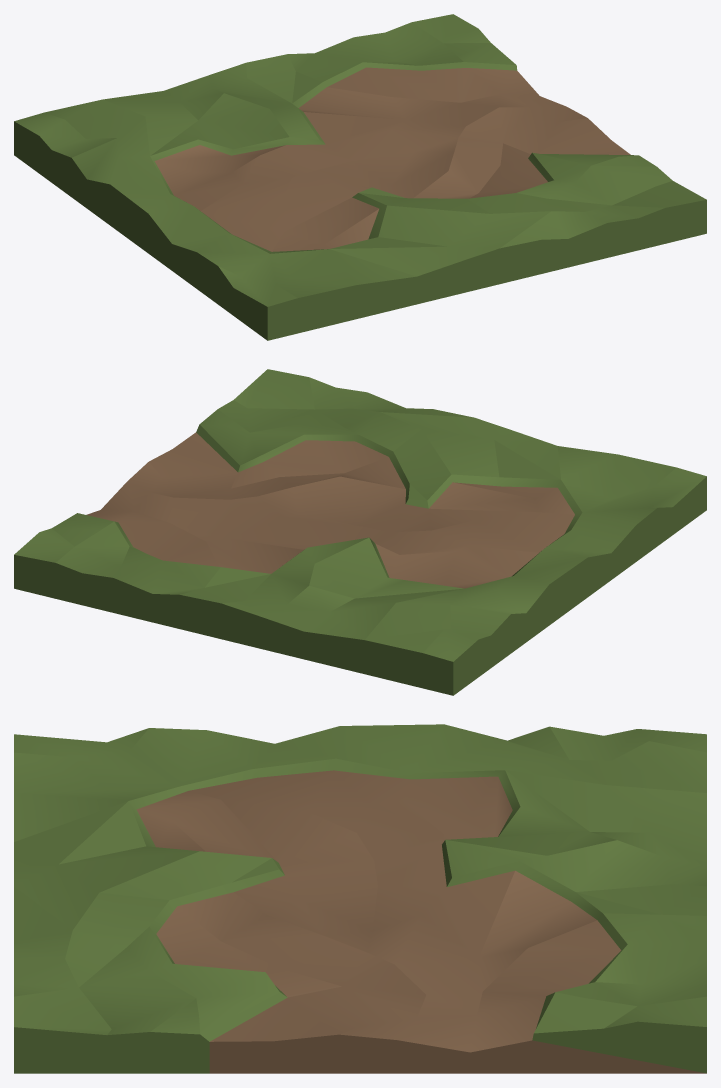
File: Ground_Path_Ending_L.glb
3 views of the same model, one above another, from view 1: azimuth 30°, elevation 25°; view 2: azimuth 150°, elevation 25°; view 3: azimuth 270°, elevation 25° (orthographic). The views are drawn at different scales.
Parts seen in each view (by area): view 1: Ground_Path_Ending_L; view 2: Ground_Path_Ending_L; view 3: Ground_Path_Ending_L.
Boxes of the visible parts, x1=… form: Ground_Path_Ending_L: x1=14, y1=14, x2=706, y2=340; Ground_Path_Ending_L: x1=14, y1=369, x2=706, y2=695; Ground_Path_Ending_L: x1=14, y1=724, x2=706, y2=1073.
Bounding box in the file's own units: 1.47 × 0.1465 × 1.47.
